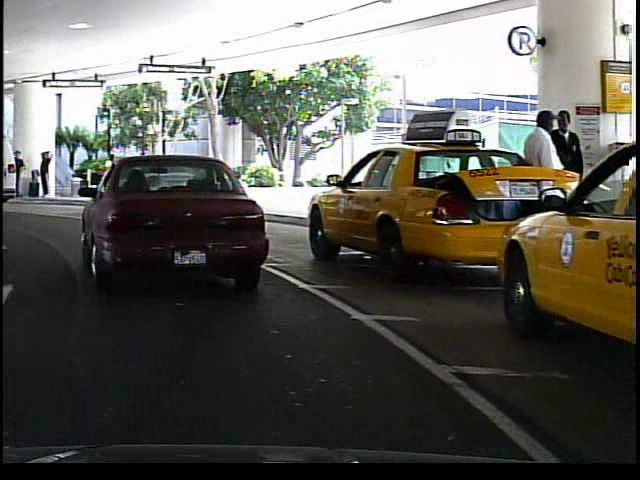person: (518, 106, 566, 256), (549, 105, 590, 249), (97, 149, 122, 195), (34, 143, 52, 201)
